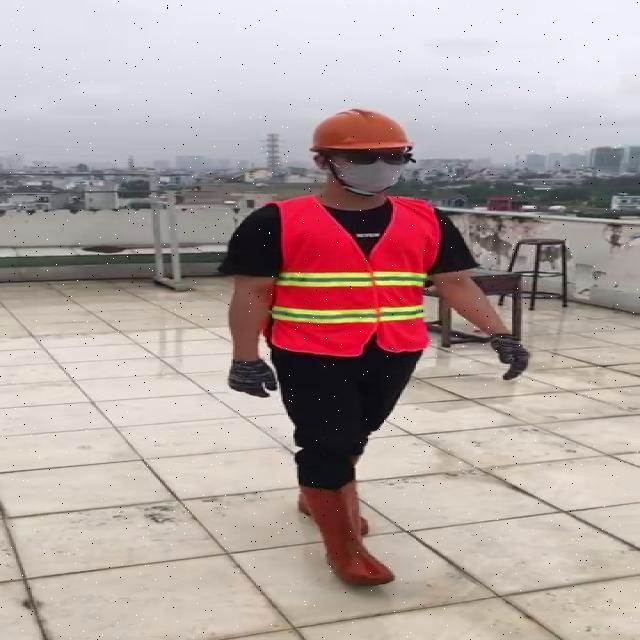Hard_hat: (300, 106, 420, 167)
Vest: (270, 193, 436, 355)
